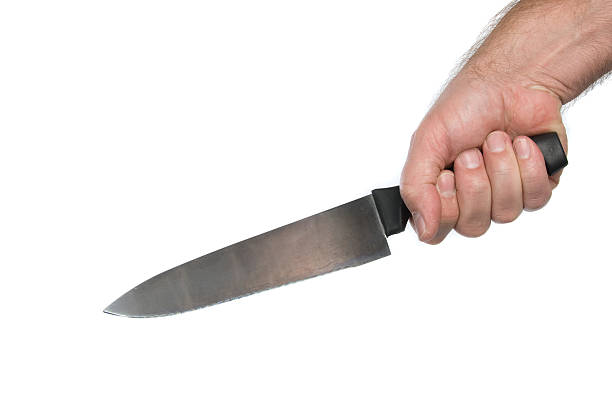knife: (101, 130, 569, 320)
